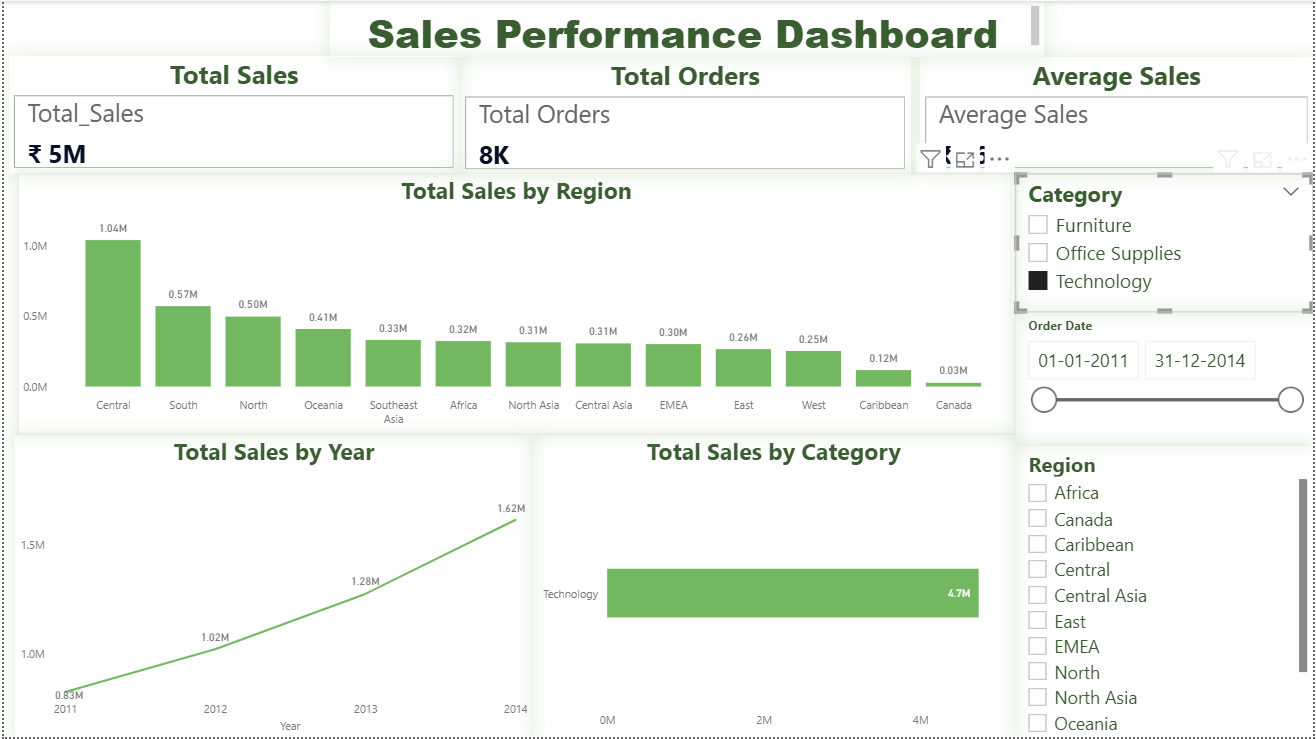

The page's visual inventory and layout, read from the dashboard file:
{"tool":"powerbi","page":{"name":"Page 1","canvas":[1280,720],"ordinal":0},"visuals":[{"type":"cardVisual","title":"Total Sales","fields":{"Data":["superstore.Total_Sales"]},"box":[5.5,53.5,440.5,115.3],"z":0},{"type":"cardVisual","title":"Average Sales","fields":{"Data":["superstore.Average Sales"]},"box":[896.1,54.9,384.2,113.9],"z":1000},{"type":"barChart","title":"Total Sales by Category","fields":{"Y":["superstore.Total_Sales"],"Category":["superstore.Category"]},"box":[517.3,424,472,296.4],"z":3000},{"type":"lineChart","title":"Total Sales by Year","fields":{"Category":["superstore.Order.Date.Variation.Date Hierarchy.Year","superstore.Order.Date.Variation.Date Hierarchy.Quarter","superstore.Order.Date.Variation.Date Hierarchy.Month","superstore.Order.Date.Variation.Date Hierarchy.Day"],"Y":["superstore.Total_Sales"]},"box":[11,424,506.3,296.4],"z":4000},{"type":"columnChart","title":"Total Sales by Region","fields":{"Category":["superstore.Region"],"Y":["superstore.Total_Sales"]},"box":[13.7,168.8,960.6,255.2],"z":5000},{"type":"slicer","fields":{"Values":["superstore.Category"]},"box":[989.4,168.8,290.9,135.8],"z":5001},{"type":"slicer","fields":{"Values":["superstore.Order.Date"]},"box":[989.4,304.6,290.9,129],"z":5002},{"type":"slicer","fields":{"Values":["superstore.Region"]},"box":[989.4,433.6,290.9,286.8],"z":5003},{"type":"textbox","box":[363.6,0,644.9,54.9],"z":5004},{"type":"cardVisual","title":"Total Orders","fields":{"Data":["superstore.Total Orders"]},"box":[446,54.9,440.5,115.3],"z":5005}]}

Visuals, with their boxes on the page's 1280x720 design canvas (x1, y1, x2, y2). These are canvas units, not pixel positions in the 1316x739 screenshot, which may show the page scaled, cropped or inside an application window:
"Total Sales" cardVisual: {"left": 6, "top": 54, "right": 446, "bottom": 169}
"Average Sales" cardVisual: {"left": 896, "top": 55, "right": 1280, "bottom": 169}
"Total Sales by Category" barChart: {"left": 517, "top": 424, "right": 989, "bottom": 720}
"Total Sales by Year" lineChart: {"left": 11, "top": 424, "right": 517, "bottom": 720}
"Total Sales by Region" columnChart: {"left": 14, "top": 169, "right": 974, "bottom": 424}
slicer - superstore.Category: {"left": 989, "top": 169, "right": 1280, "bottom": 305}
slicer - superstore.Order.Date: {"left": 989, "top": 305, "right": 1280, "bottom": 434}
slicer - superstore.Region: {"left": 989, "top": 434, "right": 1280, "bottom": 720}
textbox: {"left": 364, "top": 0, "right": 1008, "bottom": 55}
"Total Orders" cardVisual: {"left": 446, "top": 55, "right": 886, "bottom": 170}
